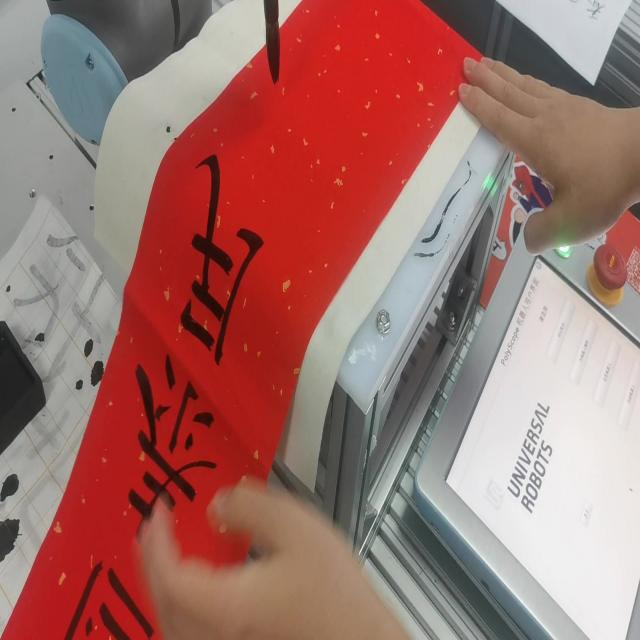head: (261, 19, 283, 89)
inkstone: (0, 310, 47, 466)
